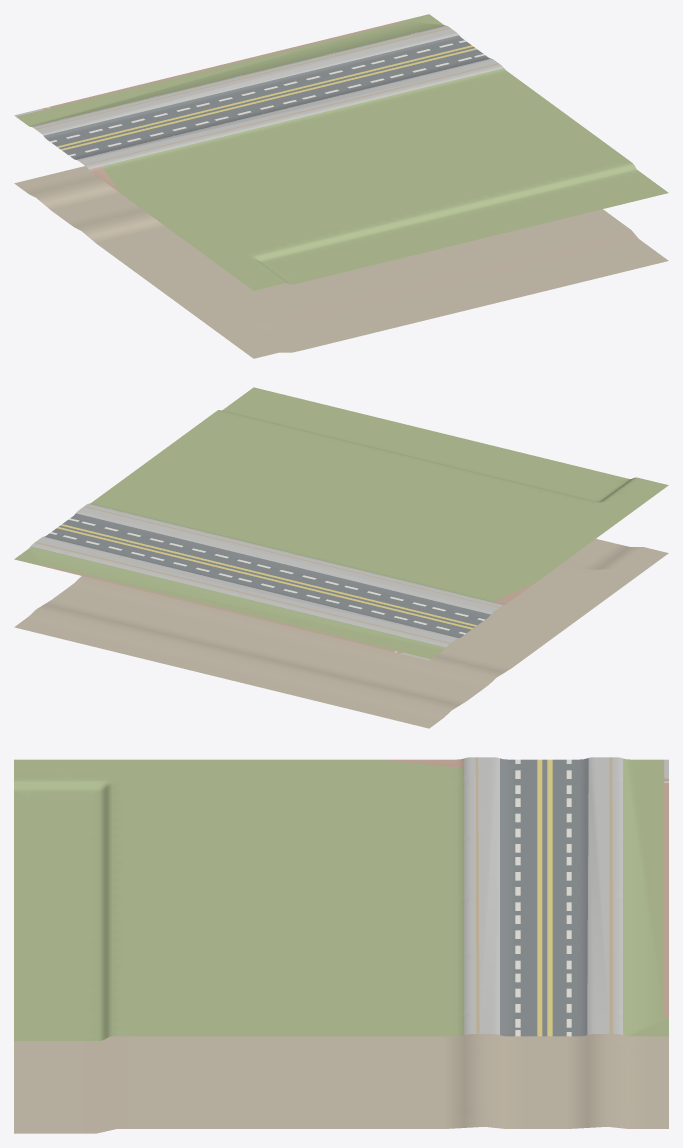
The picture shows the model from 3 angles, top to bottom: view 1: azimuth 30°, elevation 25°; view 2: azimuth 150°, elevation 25°; view 3: azimuth 270°, elevation 25°; orthographic projection. The views are drawn at different scales.
Parts seen in each view (by area): view 1: s_0_4__grass, s_0_4__soil, s_0_4__asphalt, s_0_4__stone_paving, s_0_4__yellow_marking, s_0_4__timber_deck, s_0_4__white_marking, s_0_4__brick_paving; view 2: s_0_4__grass, s_0_4__soil, s_0_4__asphalt, s_0_4__stone_paving, s_0_4__yellow_marking, s_0_4__timber_deck, s_0_4__white_marking, s_0_4__brick_paving; view 3: s_0_4__grass, s_0_4__soil, s_0_4__asphalt, s_0_4__stone_paving, s_0_4__yellow_marking, s_0_4__white_marking, s_0_4__timber_deck, s_0_4__brick_paving.
Part boxes in pixels (bbox=[...]): s_0_4__grass: bbox=[16, 14, 668, 290]; s_0_4__soil: bbox=[14, 166, 668, 358]; s_0_4__asphalt: bbox=[43, 35, 490, 159]; s_0_4__stone_paving: bbox=[14, 25, 503, 169]; s_0_4__yellow_marking: bbox=[57, 45, 476, 150]; s_0_4__timber_deck: bbox=[35, 27, 498, 165]; s_0_4__white_marking: bbox=[50, 40, 484, 156]; s_0_4__brick_paving: bbox=[18, 20, 402, 192]; s_0_4__grass: bbox=[14, 387, 668, 659]; s_0_4__soil: bbox=[14, 539, 668, 728]; s_0_4__asphalt: bbox=[44, 513, 490, 637]; s_0_4__stone_paving: bbox=[31, 503, 503, 660]; s_0_4__yellow_marking: bbox=[57, 524, 476, 629]; s_0_4__timber_deck: bbox=[34, 506, 499, 643]; s_0_4__white_marking: bbox=[50, 518, 484, 634]; s_0_4__brick_paving: bbox=[41, 565, 534, 658]; s_0_4__grass: bbox=[14, 758, 668, 1040]; s_0_4__soil: bbox=[14, 1034, 668, 1133]; s_0_4__asphalt: bbox=[500, 758, 588, 1036]; s_0_4__stone_paving: bbox=[464, 757, 668, 1034]; s_0_4__yellow_marking: bbox=[537, 759, 552, 1036]; s_0_4__white_marking: bbox=[515, 759, 571, 1036]; s_0_4__timber_deck: bbox=[475, 757, 613, 1033]; s_0_4__brick_paving: bbox=[380, 758, 668, 1018].
Size of the model in its own units: 128 by 21.51 by 128.
